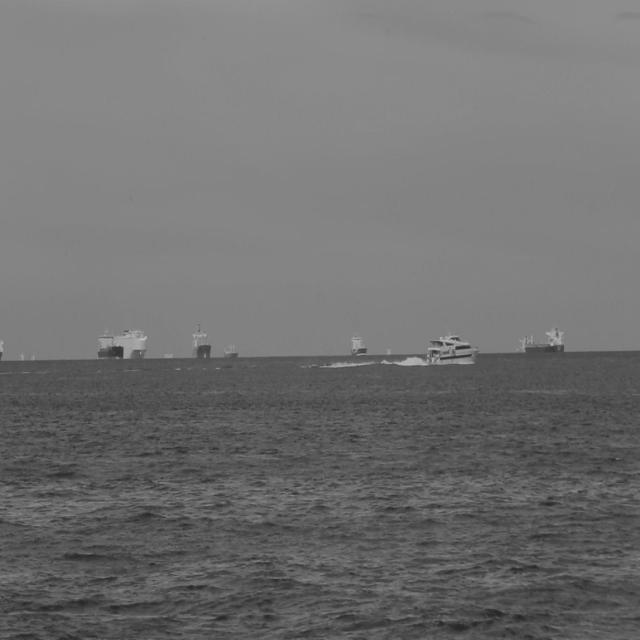ship: (418, 328, 472, 364), (518, 322, 563, 354), (112, 324, 148, 361), (96, 332, 124, 360), (192, 325, 212, 364), (348, 328, 370, 356)
